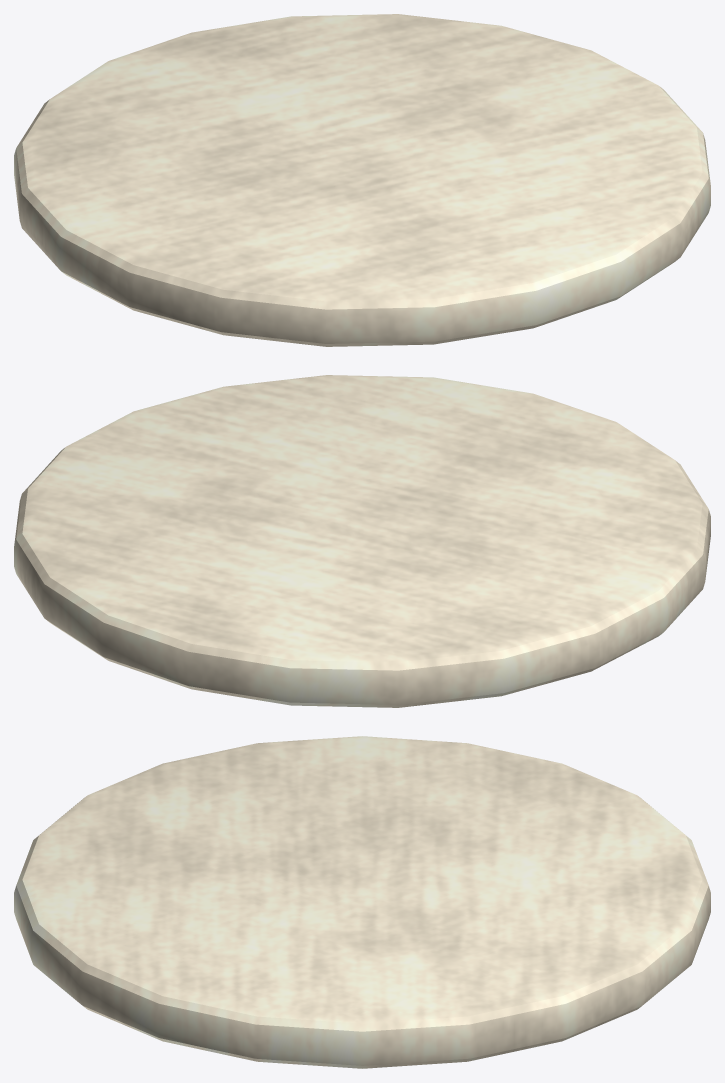
File: pedestal_top.glb
The picture shows the model from 3 angles, top to bottom: view 1: azimuth 30°, elevation 25°; view 2: azimuth 150°, elevation 25°; view 3: azimuth 270°, elevation 25°; orthographic projection.
Parts seen in each view (by area): view 1: Top; view 2: Top; view 3: Top.
Boxes of the visible parts, left/top/right/bottom form: Top: left=14, top=14, right=710, bottom=346; Top: left=14, top=375, right=710, bottom=707; Top: left=14, top=736, right=710, bottom=1068.
Size of the model in its own units: 1.09 by 0.126 by 1.09.
1 material, 1 textured.
